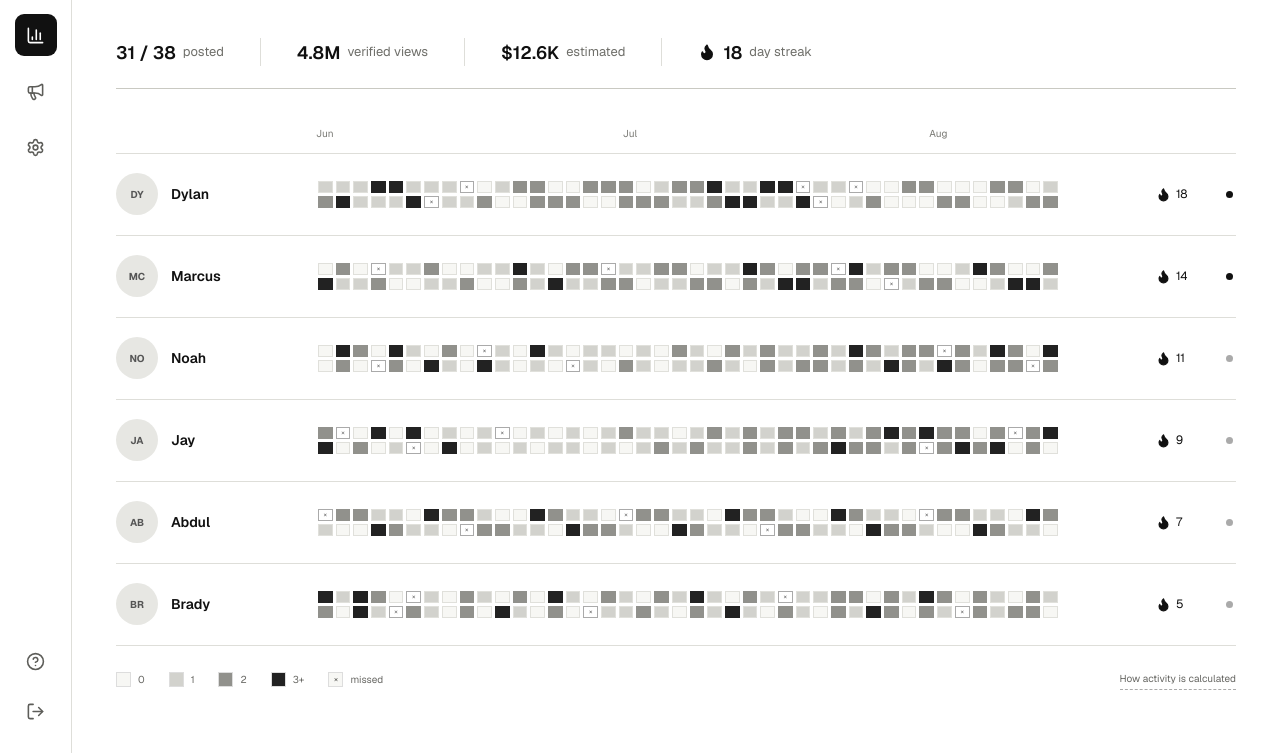
Test case: admin activity preview › explains the activity calculation instead of leaving the help control inert
(page scrolled)
Click the button "How activity is calculated" at point(1178, 679), box [1120,668,1236,690]
(page scrolled)
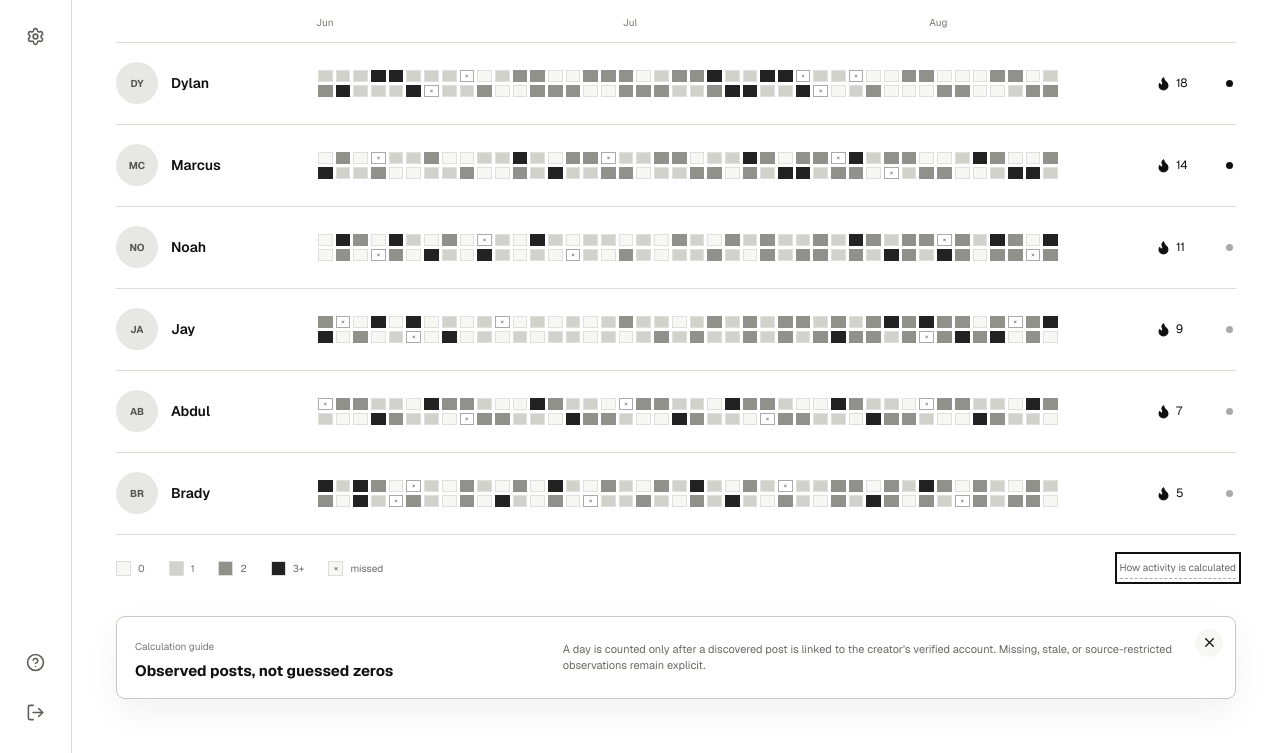
Now the heading "Observed posts, not guessed zeros" is shown, box [135,660,393,680]
Now the text "missing, stale, or source-restricted observations remain explicit" is shown, box [563,642,1172,672]
